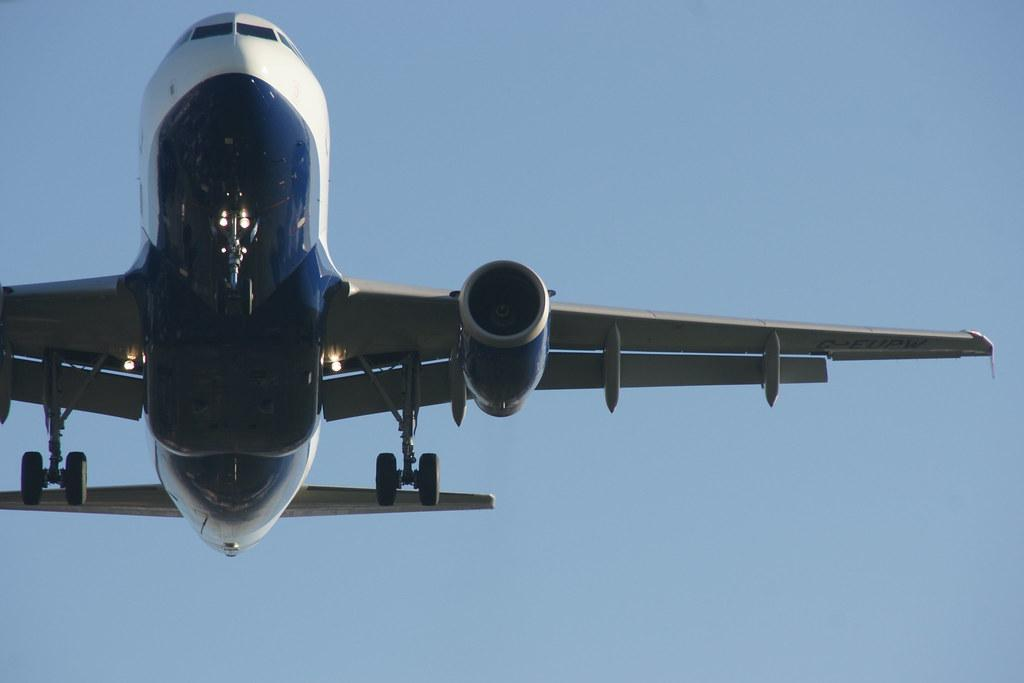plane: (2, 10, 996, 558)
